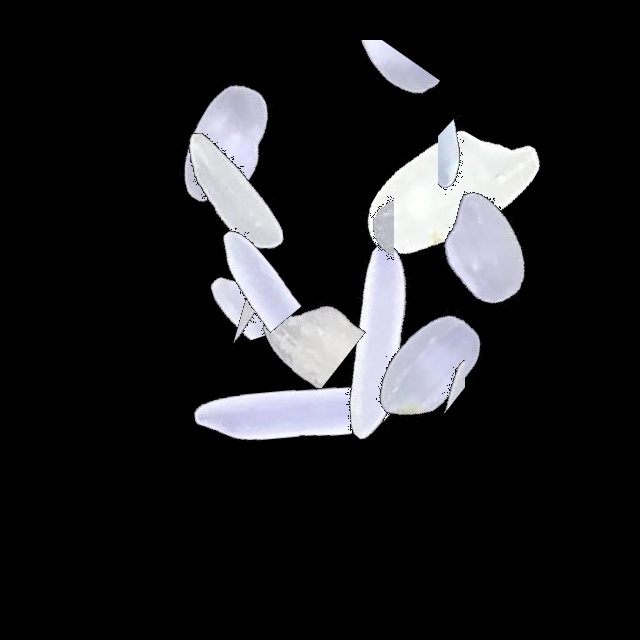Broken: (167, 290, 417, 451), (175, 140, 312, 390), (162, 252, 412, 388), (238, 40, 488, 156), (207, 155, 315, 405), (362, 244, 465, 494), (162, 281, 412, 379), (438, 28, 527, 278), (314, 100, 394, 350)
Full: (324, 68, 574, 318), (100, 21, 350, 271), (109, 64, 359, 314), (250, 215, 500, 465), (303, 241, 553, 491), (363, 123, 613, 373)
